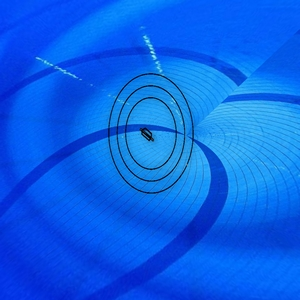circle: (105, 71, 198, 199)
submarine: (137, 124, 159, 147)
